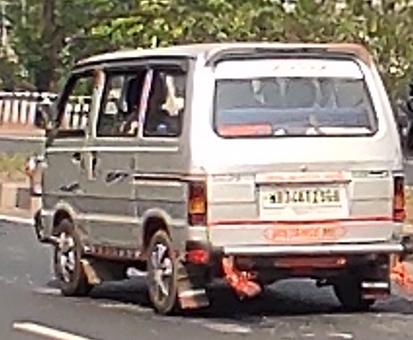Auto: (37, 40, 411, 321)
